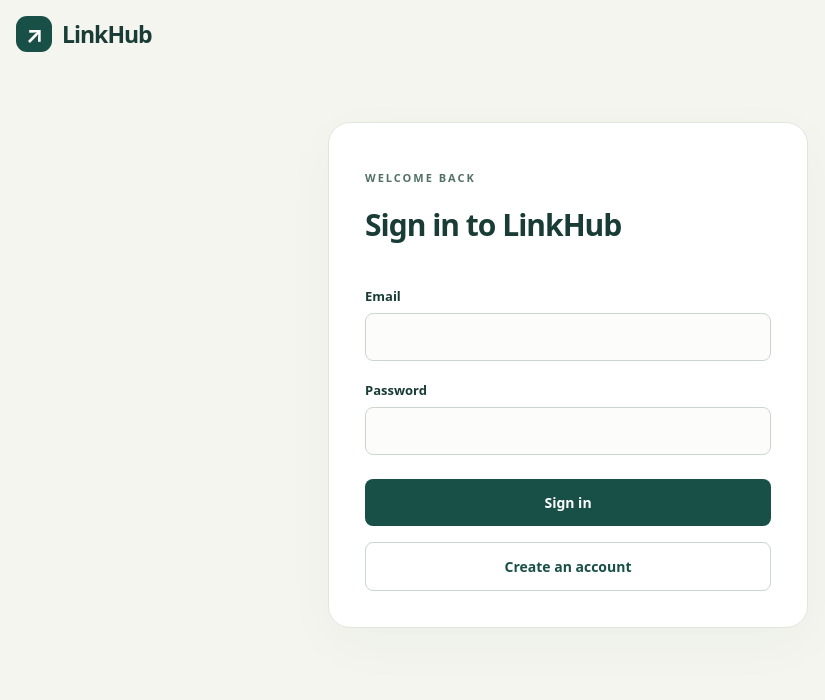
Scenario: invalid credentials are displayed and can be corrected
Type "reader@example.com" into the field labelled "Email" at (568, 337), box [365,313,771,361]
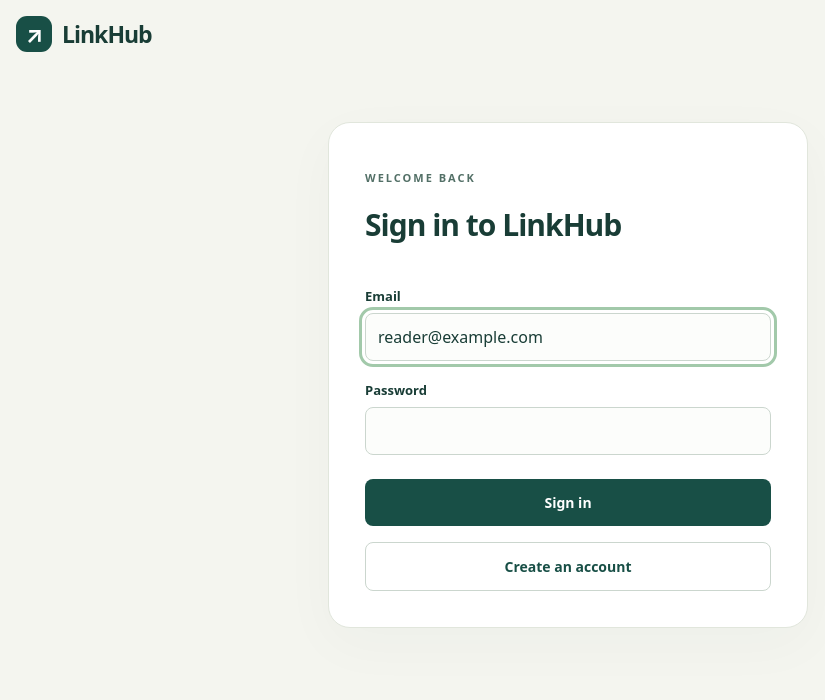
Type "wrong password" into the password field labelled "Password" at (568, 431), box [365,407,771,455]
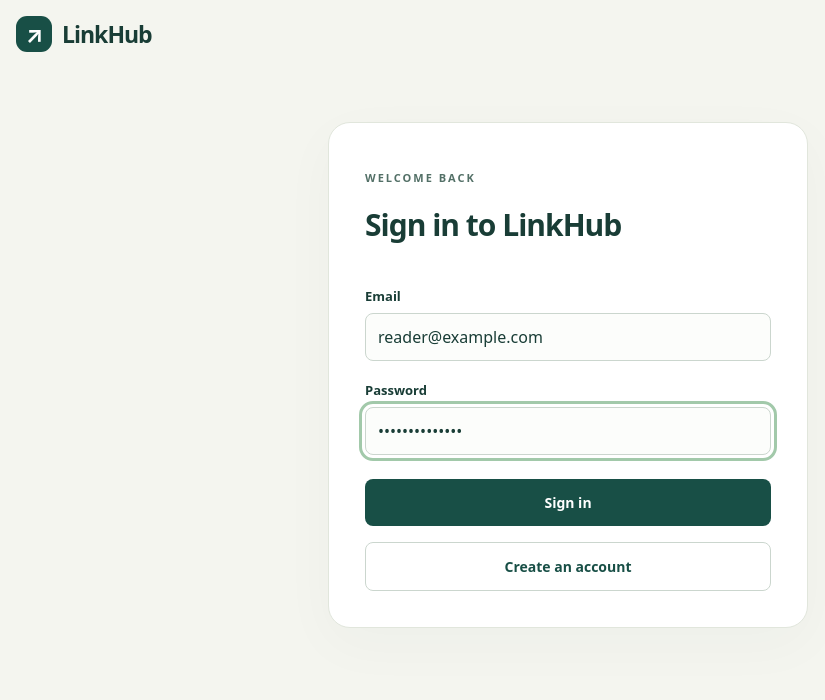
Click the button "Sign in" at (568, 503), box [365,479,771,526]
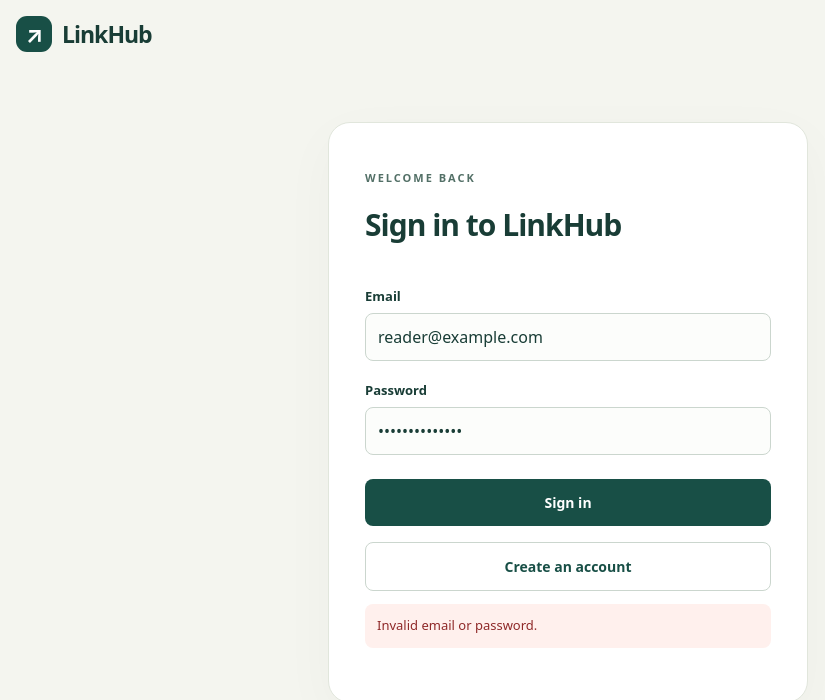
Result: the message shows "Invalid email or password" at [377,616,537,634]
